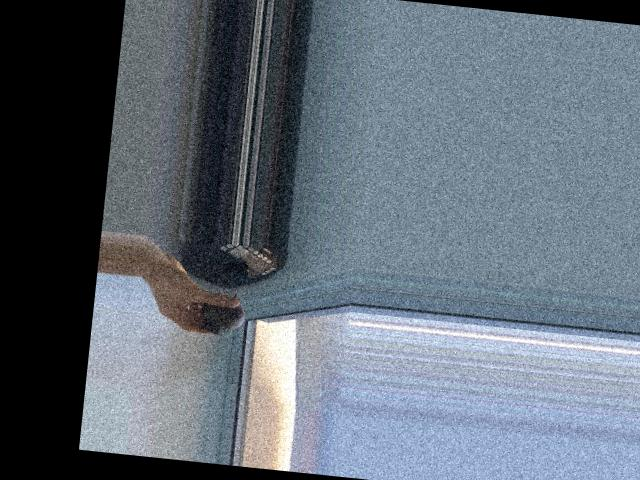beet: (194, 288, 247, 336)
